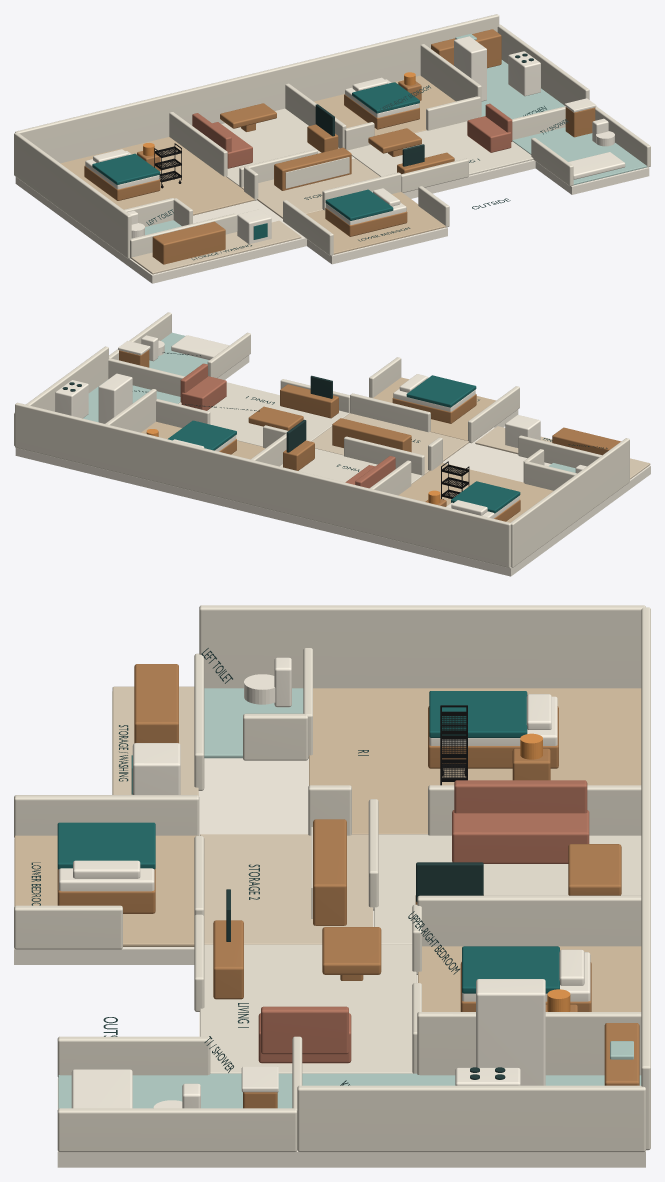
The model's file is sketch-cart.glb.
3 renders of one model, top to bottom at view 1: azimuth 30°, elevation 25°; view 2: azimuth 150°, elevation 25°; view 3: azimuth 270°, elevation 25°, orthographic. The views are drawn at different scales.
Parts seen in each view (by area): view 1: Illustrative partition 0, Approximate sketch footprint, Illustrative partition 1, bedroom_upper_left floor, living1 floor, living2 floor, bedroom_lower_center floor, bathroom floor, storage floor, Laundry cupboard, kitchen floor, Illustrative partition 15 (+46 smaller); view 2: Illustrative partition 0, Approximate sketch footprint, Illustrative partition 1, living1 floor, bedroom_upper_left floor, storage floor, Illustrative partition 8, Illustrative partition 15, Storage 2 cabinet, Illustrative partition 7, Illustrative partition 16, living2 floor (+35 smaller); view 3: Illustrative partition 1, bedroom_upper_left floor, Illustrative partition 15, Approximate sketch footprint, living1 floor, storage floor, Illustrative partition 11, Illustrative partition 17, living2 floor, bedroom_lower_center floor, Illustrative partition 14, Kitchen fridge (+46 smaller).
Boxes of the visible parts, left/top/right/bottom form: Illustrative partition 0: left=15, top=14, right=499, bottom=163; Approximate sketch footprint: left=15, top=160, right=649, bottom=283; Illustrative partition 1: left=14, top=132, right=131, bottom=258; bedroom_upper_left floor: left=60, top=137, right=254, bottom=215; living1 floor: left=348, top=121, right=533, bottom=176; living2 floor: left=221, top=108, right=355, bottom=185; bedroom_lower_center floor: left=306, top=192, right=445, bottom=254; bathroom floor: left=512, top=127, right=647, bottom=184; storage floor: left=241, top=158, right=380, bottom=218; Laundry cupboard: left=152, top=221, right=225, bottom=264; kitchen floor: left=481, top=60, right=564, bottom=119; Illustrative partition 15: left=497, top=24, right=589, bottom=105; Illustrative partition 0: left=15, top=402, right=510, bottom=567; Approximate sketch footprint: left=15, top=355, right=650, bottom=576; Illustrative partition 1: left=510, top=438, right=629, bottom=567; living1 floor: left=178, top=382, right=349, bottom=446; bedroom_upper_left floor: left=398, top=463, right=553, bottom=522; storage floor: left=311, top=413, right=468, bottom=474; Illustrative partition 8: left=350, top=393, right=430, bottom=432; Illustrative partition 15: left=14, top=346, right=108, bottom=445; Storage 2 cabinet: left=332, top=418, right=411, bottom=452; Illustrative partition 7: left=344, top=436, right=424, bottom=475; Illustrative partition 16: left=108, top=358, right=184, bottom=396; living2 floor: left=280, top=448, right=422, bottom=483; Illustrative partition 1: left=199, top=605, right=645, bottom=688; bedroom_upper_left floor: left=309, top=688, right=641, bottom=834; Illustrative partition 15: left=297, top=1085, right=645, bottom=1152; Approximate sketch footprint: left=14, top=691, right=645, bottom=1167; living1 floor: left=200, top=944, right=416, bottom=1073; storage floor: left=200, top=834, right=372, bottom=944; Illustrative partition 11: left=417, top=895, right=641, bottom=946; Illustrative partition 17: left=57, top=1108, right=297, bottom=1152; living2 floor: left=374, top=834, right=641, bottom=944; bedroom_lower_center floor: left=14, top=835, right=198, bottom=946; Illustrative partition 14: left=417, top=1012, right=641, bottom=1075; Kitchen fridge: left=476, top=979, right=545, bottom=1085.
Bounding box in the file's own units: 10.09 × 1.28 × 5.85.
